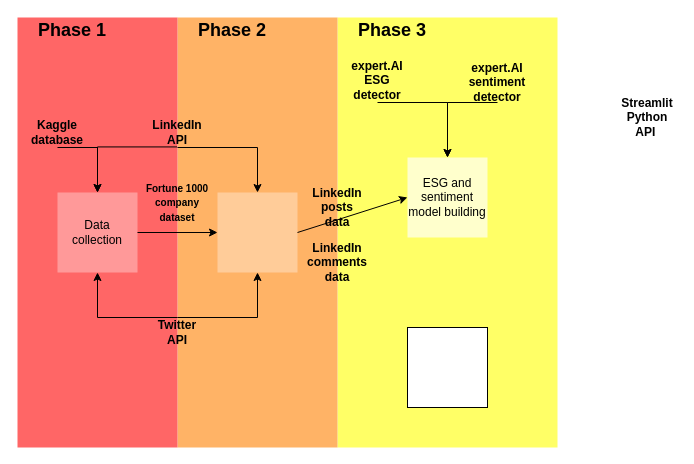
The diagram is 694 pixels wide and 464 high, and some of its shapes have lost their labels. The centre of each missing label's shape, as x and y in pixels:
"App dashboard" goes at (x=447, y=367).
"Data processing" goes at (x=257, y=232).
